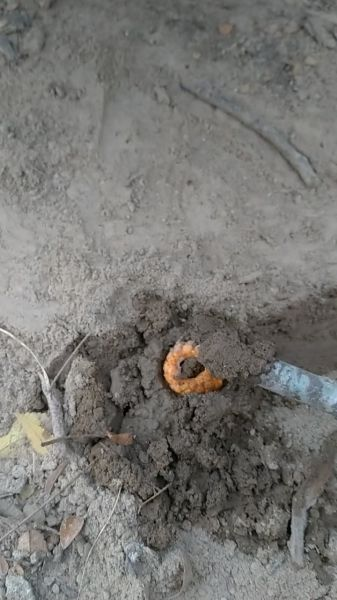eggs: (157, 334, 229, 398)
